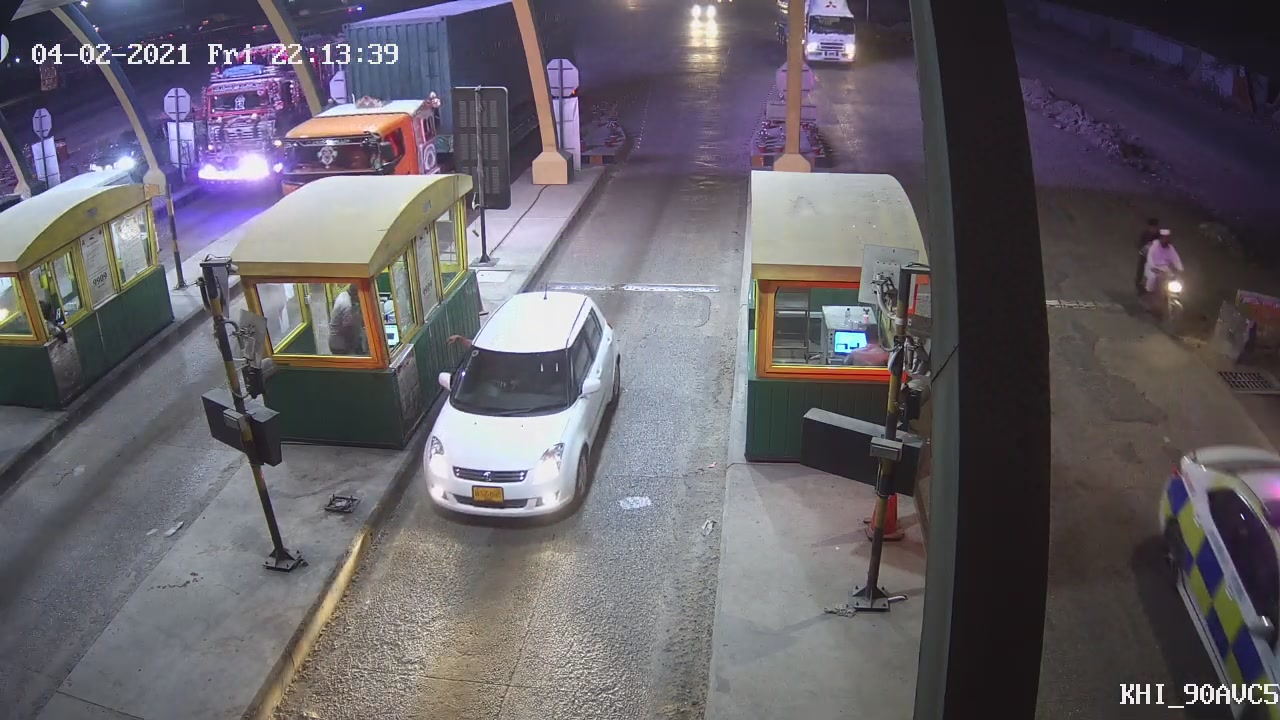F1: (420, 286, 624, 525)
